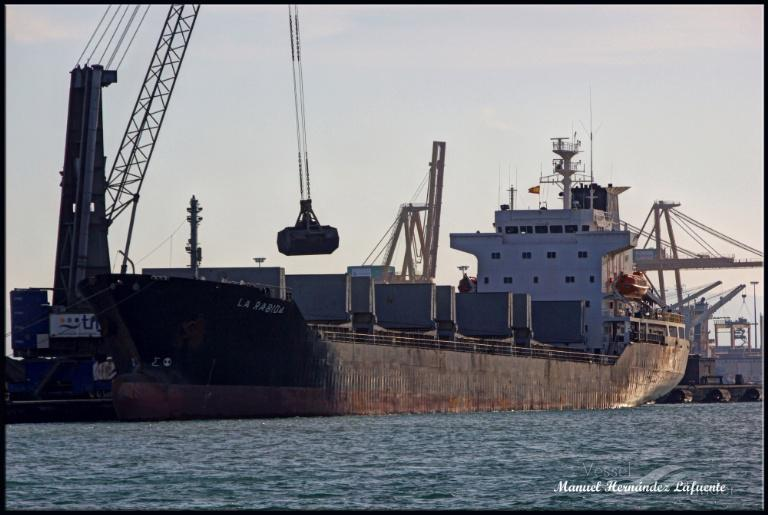OCR: (223, 292, 292, 313)
